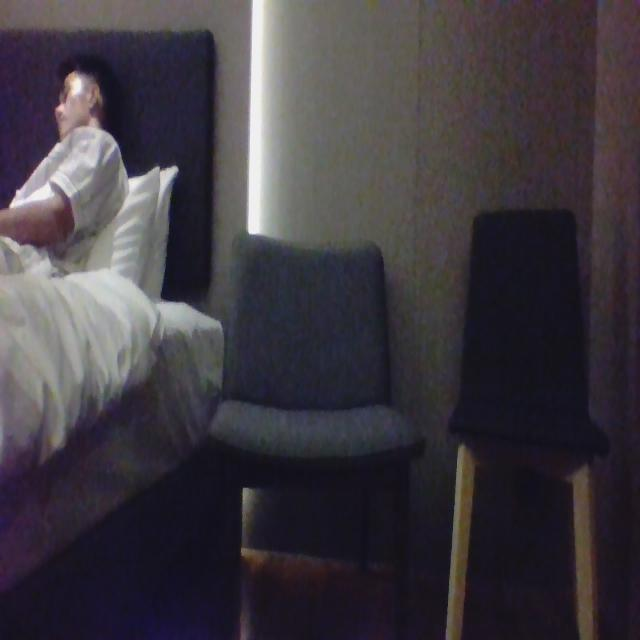empty: (220, 226, 409, 455), (457, 189, 582, 451)
